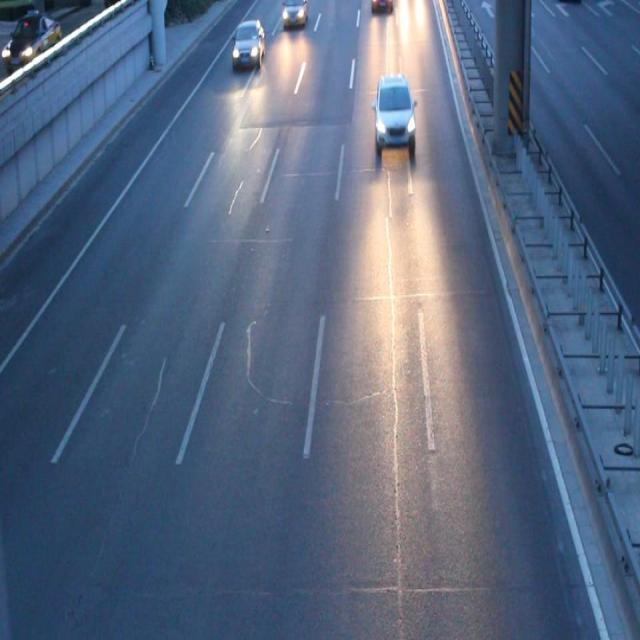car: (371, 74, 417, 156), (232, 20, 264, 69), (282, 1, 308, 29)
